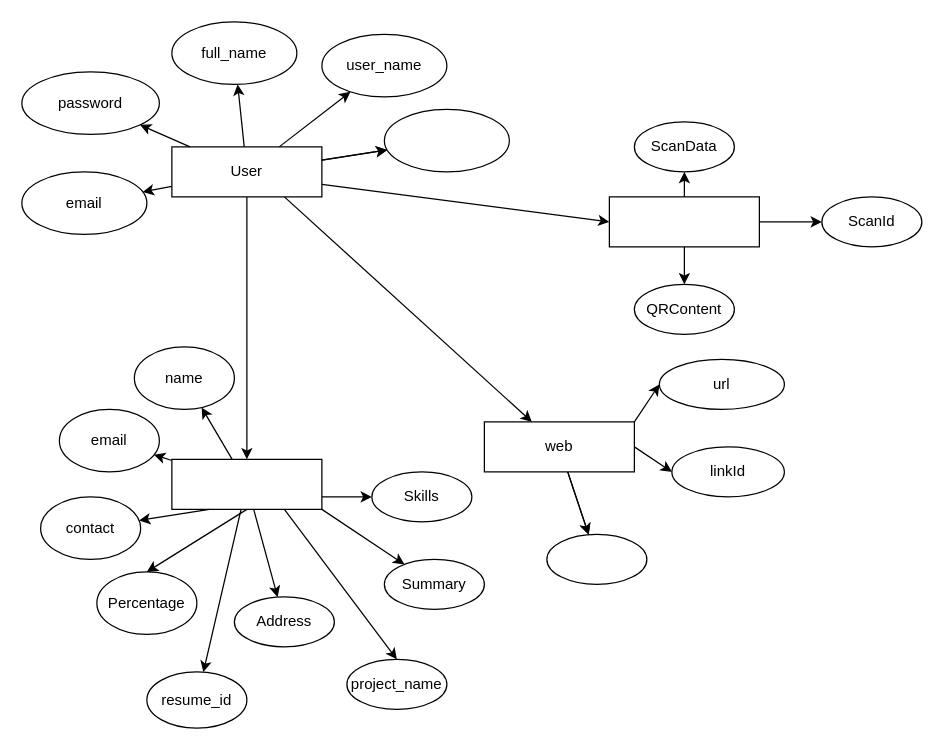
This 944x750 diagram has some shape labels left out. The shapes that lost their labels are listed below. From the top down, each one's centre as x and y in pixels, then its label:
At point 446,140: "use_id".
At point 683,221: "QRScan".
At point 246,483: "Resume".
At point 596,558: "Result".
